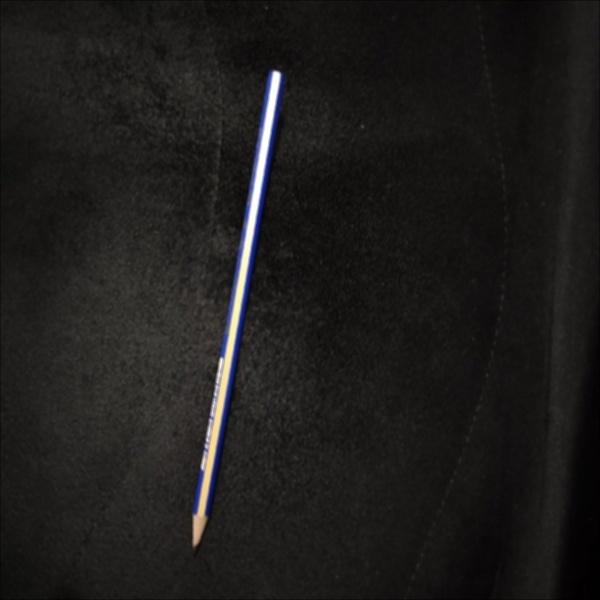pencil: (181, 61, 296, 559)
